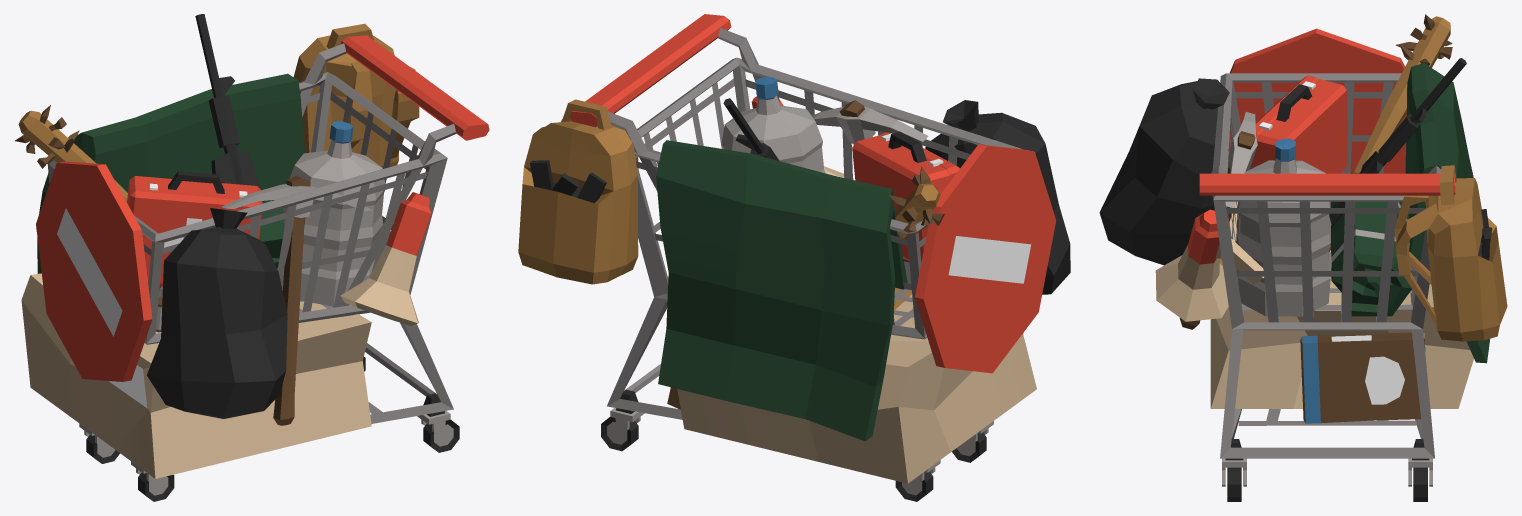
File: apocalypse_shopping-trolley-apocalypse.fbx
The picture shows the model from 3 angles, left to right: view 1: azimuth 30°, elevation 25°; view 2: azimuth 150°, elevation 25°; view 3: azimuth 270°, elevation 25°; orthographic projection. The views are drawn at different scales.
Visible parts, largest first — view 1: apocalypse_shopping_trolley_apocalypse; view 2: apocalypse_shopping_trolley_apocalypse; view 3: apocalypse_shopping_trolley_apocalypse.
Boxes of the visible parts, x1,y1,x2,y2 form: apocalypse_shopping_trolley_apocalypse: (15,14,489,501); apocalypse_shopping_trolley_apocalypse: (518,14,1070,501); apocalypse_shopping_trolley_apocalypse: (1099,14,1507,501).
Bounding box in the file's own units: 200 × 190 × 186.
